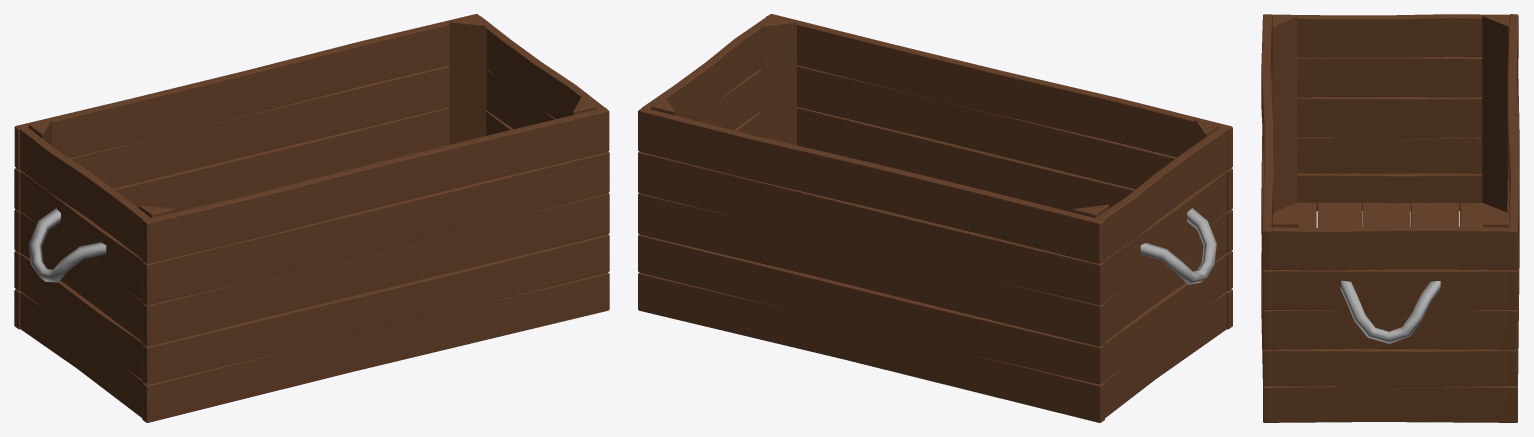
Rendered from Casket_Open.fbx.
3 views of the same model, side by side, from view 1: azimuth 30°, elevation 25°; view 2: azimuth 150°, elevation 25°; view 3: azimuth 270°, elevation 25° (orthographic). The views are drawn at different scales.
Visible parts, largest first — view 1: Casket_Open; view 2: Casket_Open; view 3: Casket_Open.
Boxes of the visible parts, box(x1,y1,x2,y2) form: Casket_Open: box(14, 14, 609, 422); Casket_Open: box(638, 14, 1232, 422); Casket_Open: box(1261, 14, 1519, 422).
Size of the model in its own units: 118 by 41.96 by 50.06.
